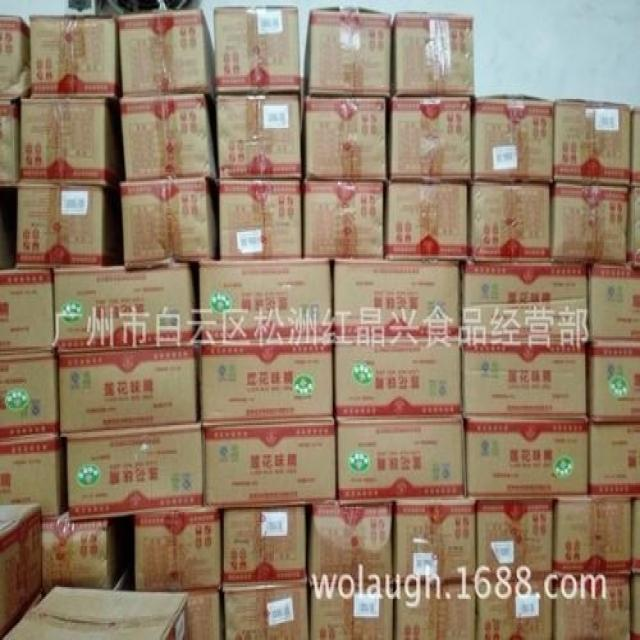box: (68, 423, 204, 515), (51, 263, 193, 350), (59, 348, 196, 435), (205, 416, 335, 507), (200, 343, 333, 427), (200, 256, 330, 340), (337, 415, 465, 497), (333, 258, 463, 338), (0, 585, 189, 640), (466, 416, 588, 497), (461, 341, 586, 420), (335, 340, 461, 416), (462, 263, 586, 340), (122, 176, 218, 268), (118, 9, 215, 96), (119, 94, 218, 179), (20, 99, 115, 184), (308, 498, 394, 585), (14, 183, 104, 266), (214, 7, 300, 92), (216, 94, 302, 177), (310, 10, 392, 97), (218, 179, 303, 261), (31, 15, 115, 97), (137, 507, 221, 589), (553, 99, 630, 186), (389, 99, 471, 179), (396, 498, 476, 580), (223, 503, 306, 582), (474, 97, 552, 181), (306, 97, 385, 179), (397, 14, 474, 96), (305, 179, 383, 258), (553, 498, 631, 575), (472, 184, 550, 261), (477, 500, 553, 579), (387, 184, 467, 259), (553, 183, 628, 261), (0, 503, 41, 638), (0, 352, 60, 444), (42, 514, 115, 587), (0, 433, 60, 514), (554, 575, 631, 638), (221, 585, 308, 640), (0, 270, 56, 353), (310, 585, 394, 640), (476, 577, 550, 638), (396, 585, 475, 638), (589, 341, 639, 423), (590, 265, 640, 340), (590, 423, 639, 497), (0, 15, 32, 96), (0, 99, 20, 183), (188, 589, 220, 640), (627, 189, 640, 270), (631, 109, 640, 184), (631, 500, 640, 573), (631, 577, 640, 640)
